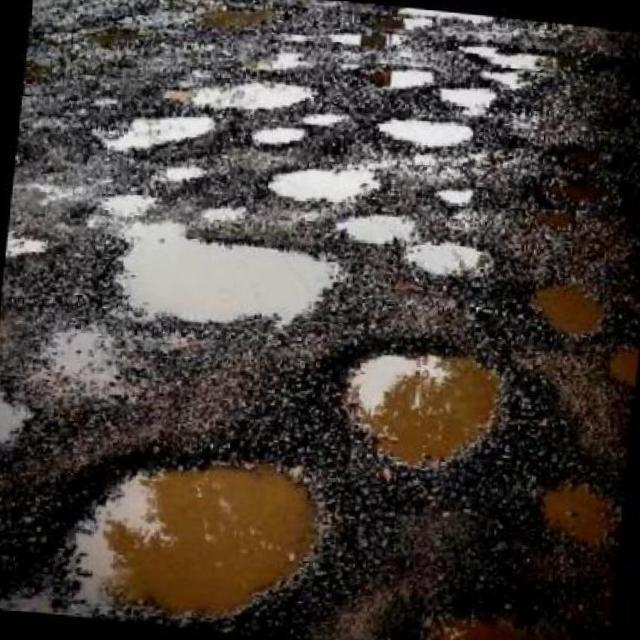Pothole: (59, 462, 318, 623), (73, 195, 337, 324), (341, 351, 506, 467), (335, 214, 479, 275), (543, 483, 620, 549), (268, 164, 386, 206), (100, 116, 216, 155), (166, 82, 318, 111), (421, 612, 577, 640), (533, 282, 605, 340), (450, 43, 539, 88), (377, 119, 473, 148), (364, 64, 439, 90), (439, 88, 497, 117), (251, 124, 309, 149), (609, 344, 639, 391), (199, 204, 247, 229), (0, 392, 21, 444), (157, 164, 206, 184), (9, 237, 48, 260), (435, 186, 474, 206), (302, 112, 349, 126)
